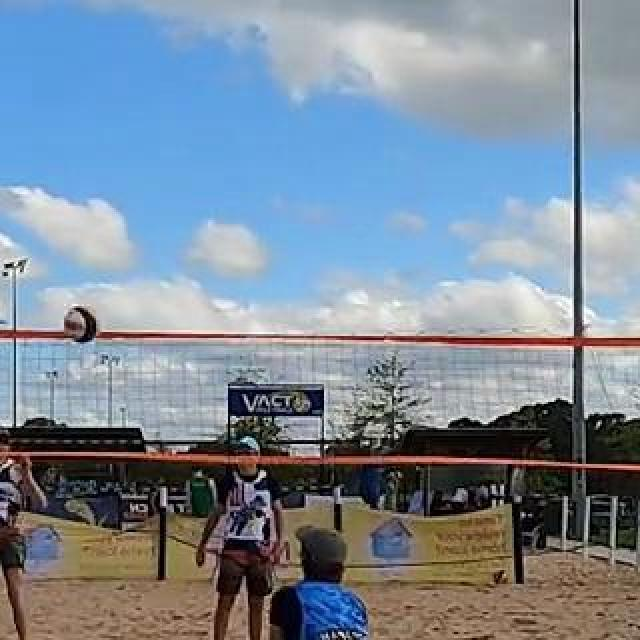volleyball: (65, 308, 99, 342)
